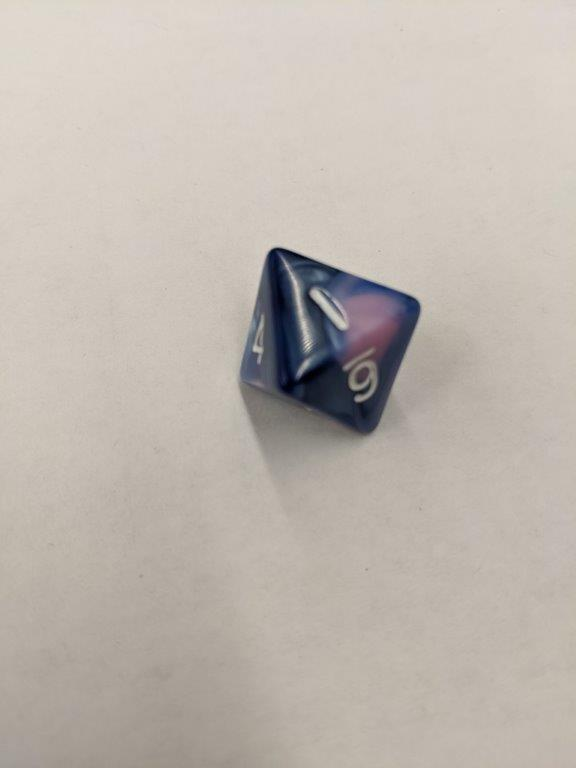d8-1: (239, 244, 422, 438)
